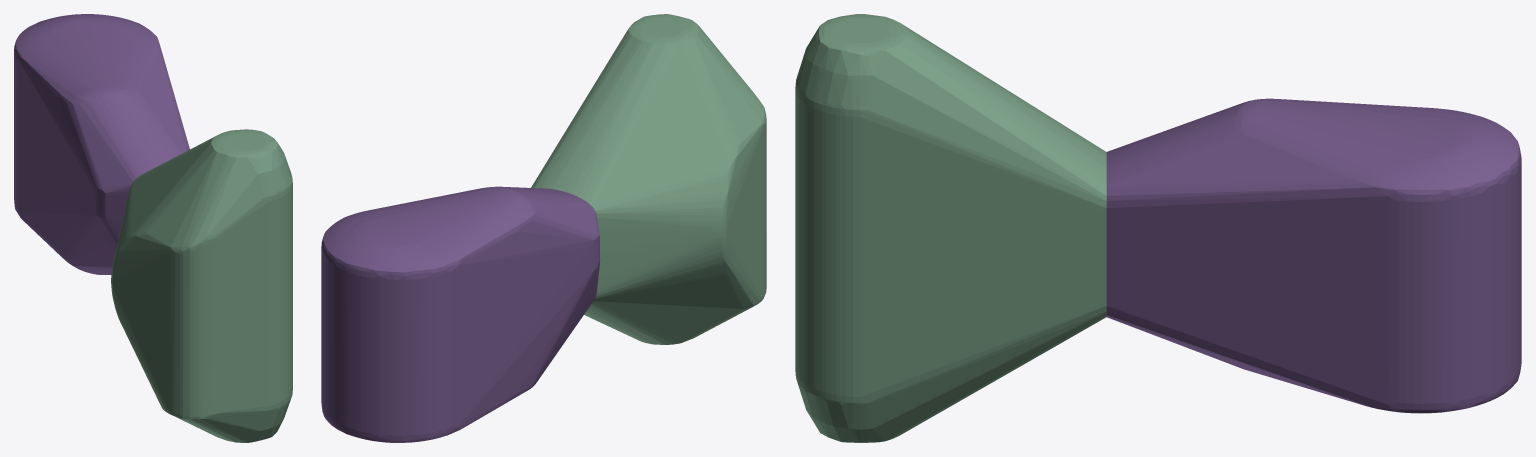
The model's file is torso_l3.obj.
3 renders of one model, left to right at view 1: azimuth 30°, elevation 25°; view 2: azimuth 150°, elevation 25°; view 3: azimuth 270°, elevation 25°, orthographic. The views are drawn at different scales.
Parts seen in each view (by area): view 1: geometry_0, geometry_1; view 2: geometry_1, geometry_0; view 3: geometry_1, geometry_0.
Boxes of the visible parts, <box> form: geometry_0: <box>111,129,292,442</box>; geometry_1: <box>14,14,189,274</box>; geometry_1: <box>321,186,600,442</box>; geometry_0: <box>531,14,766,344</box>; geometry_1: <box>1106,98,1521,413</box>; geometry_0: <box>795,14,1106,442</box>.
Bounding box in the file's own units: 0.2595 × 0.3472 × 0.578.
